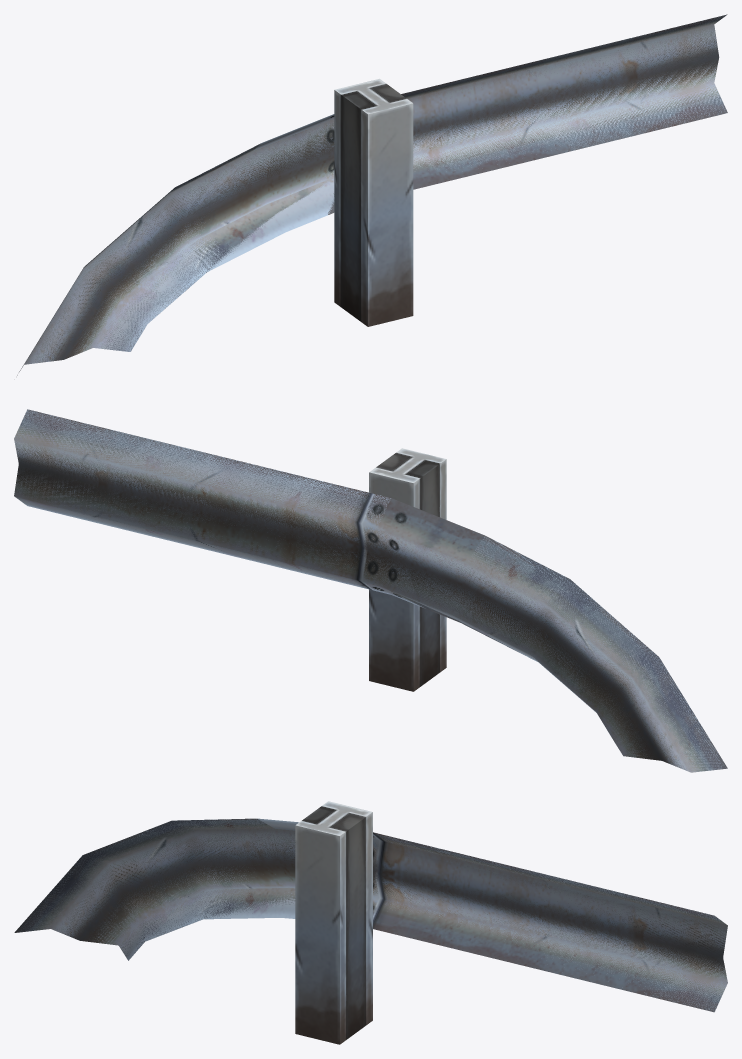
Rendered from guardRail_End01_R.fbx.
3 views of the same model, one above another, from view 1: azimuth 30°, elevation 25°; view 2: azimuth 150°, elevation 25°; view 3: azimuth 330°, elevation 25° (orthographic).
Visible parts, largest first — view 1: guardRail_End01_R; view 2: guardRail_End01_R; view 3: guardRail_End01_R.
Part boxes in pixels (<box>): guardRail_End01_R: <box>17,14,727,375</box>; guardRail_End01_R: <box>14,409,727,772</box>; guardRail_End01_R: <box>14,801,727,1044</box>.
Size of the model in its own units: 289 by 82.17 by 33.12.
